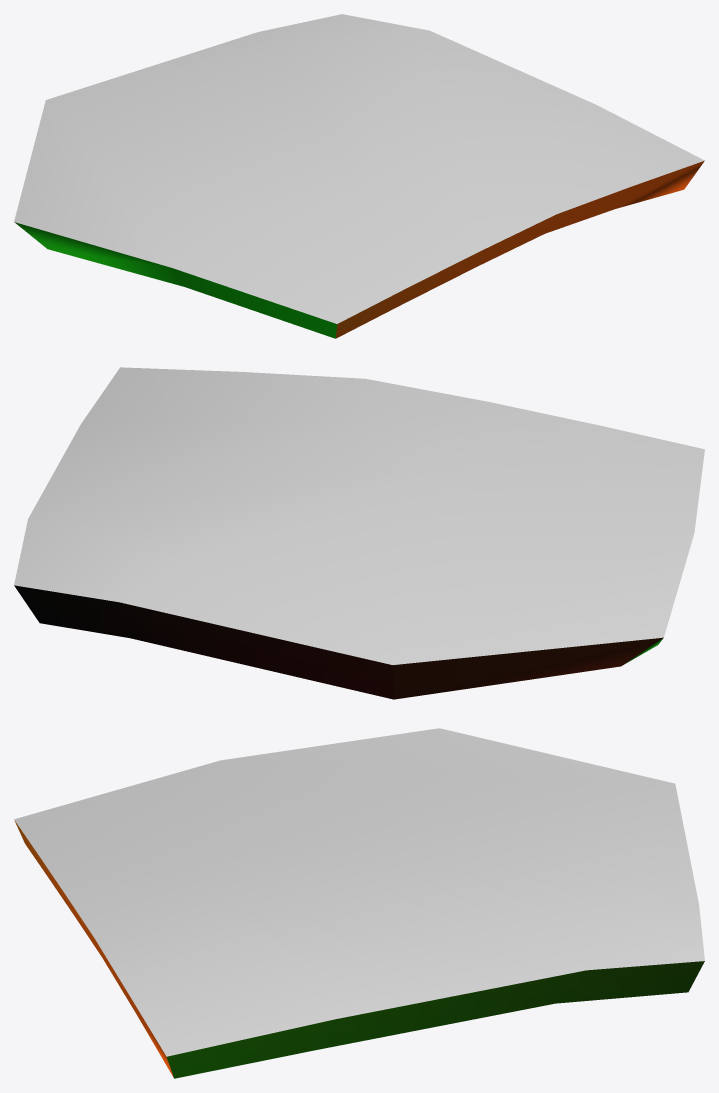
File: Part_3_Roof Piece_08.fbx
The picture shows the model from 3 angles, top to bottom: view 1: azimuth 30°, elevation 25°; view 2: azimuth 150°, elevation 25°; view 3: azimuth 270°, elevation 25°; orthographic projection. The views are drawn at different scales.
Parts seen in each view (by area): view 1: Part_3_Roof Piece_08; view 2: Part_3_Roof Piece_08; view 3: Part_3_Roof Piece_08.
Part boxes in pixels (box(x1,y1,x2,y2)): Part_3_Roof Piece_08: box(14, 14, 704, 338); Part_3_Roof Piece_08: box(14, 367, 704, 699); Part_3_Roof Piece_08: box(14, 728, 704, 1078).
Bounding box in the file's own units: 23.62 × 2.32 × 20.64.
